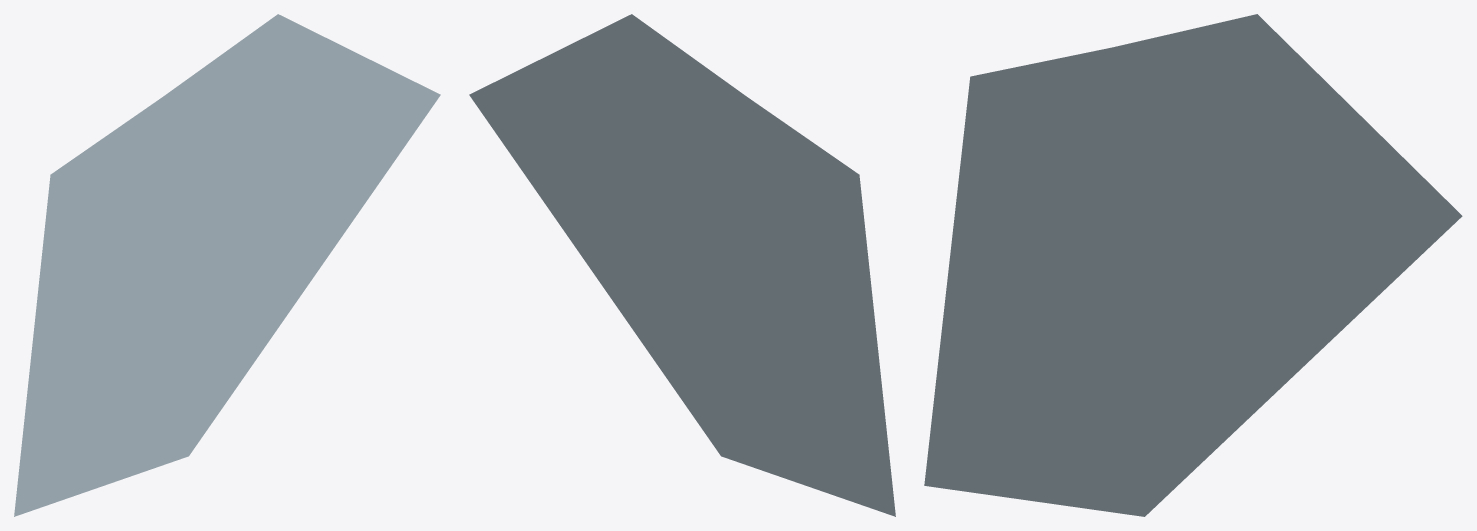
3 renders of one model, left to right at view 1: azimuth 30°, elevation 25°; view 2: azimuth 150°, elevation 25°; view 3: azimuth 330°, elevation 25°, orthographic. The views are drawn at different scales.
Visible parts, largest first — view 1: pCube50; view 2: pCube50; view 3: pCube50.
Part boxes in pixels (x1,y1,x2,y2): pCube50: (14, 14, 440, 516); pCube50: (469, 14, 895, 516); pCube50: (924, 14, 1462, 516).
Bounding box in the file's own units: 35.17 × 34.53 × 0.
